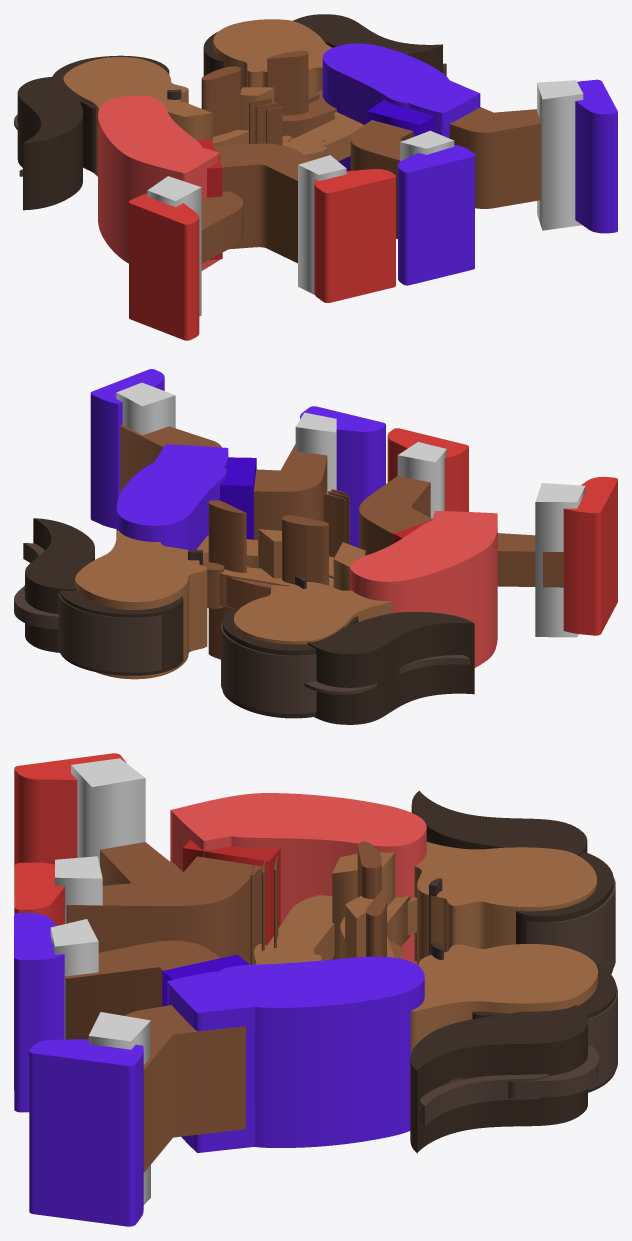
Rendered from emoji_u1f93c_1f3fe_200d_2640.glb.
The picture shows the model from 3 angles, top to bottom: view 1: azimuth 30°, elevation 25°; view 2: azimuth 150°, elevation 25°; view 3: azimuth 270°, elevation 25°; orthographic projection. The views are drawn at different scales.
Parts seen in each view (by area): view 1: emoji_u1f93c_1f3fe_200d_2640; view 2: emoji_u1f93c_1f3fe_200d_2640; view 3: emoji_u1f93c_1f3fe_200d_2640.
Boxes of the visible parts, x1=… form: emoji_u1f93c_1f3fe_200d_2640: x1=14, y1=14, x2=617, y2=340; emoji_u1f93c_1f3fe_200d_2640: x1=14, y1=369, x2=617, y2=724; emoji_u1f93c_1f3fe_200d_2640: x1=14, y1=753, x2=617, y2=1226.
Bounding box in the file's own units: 0.0327 × 0.0096 × 0.0266.
